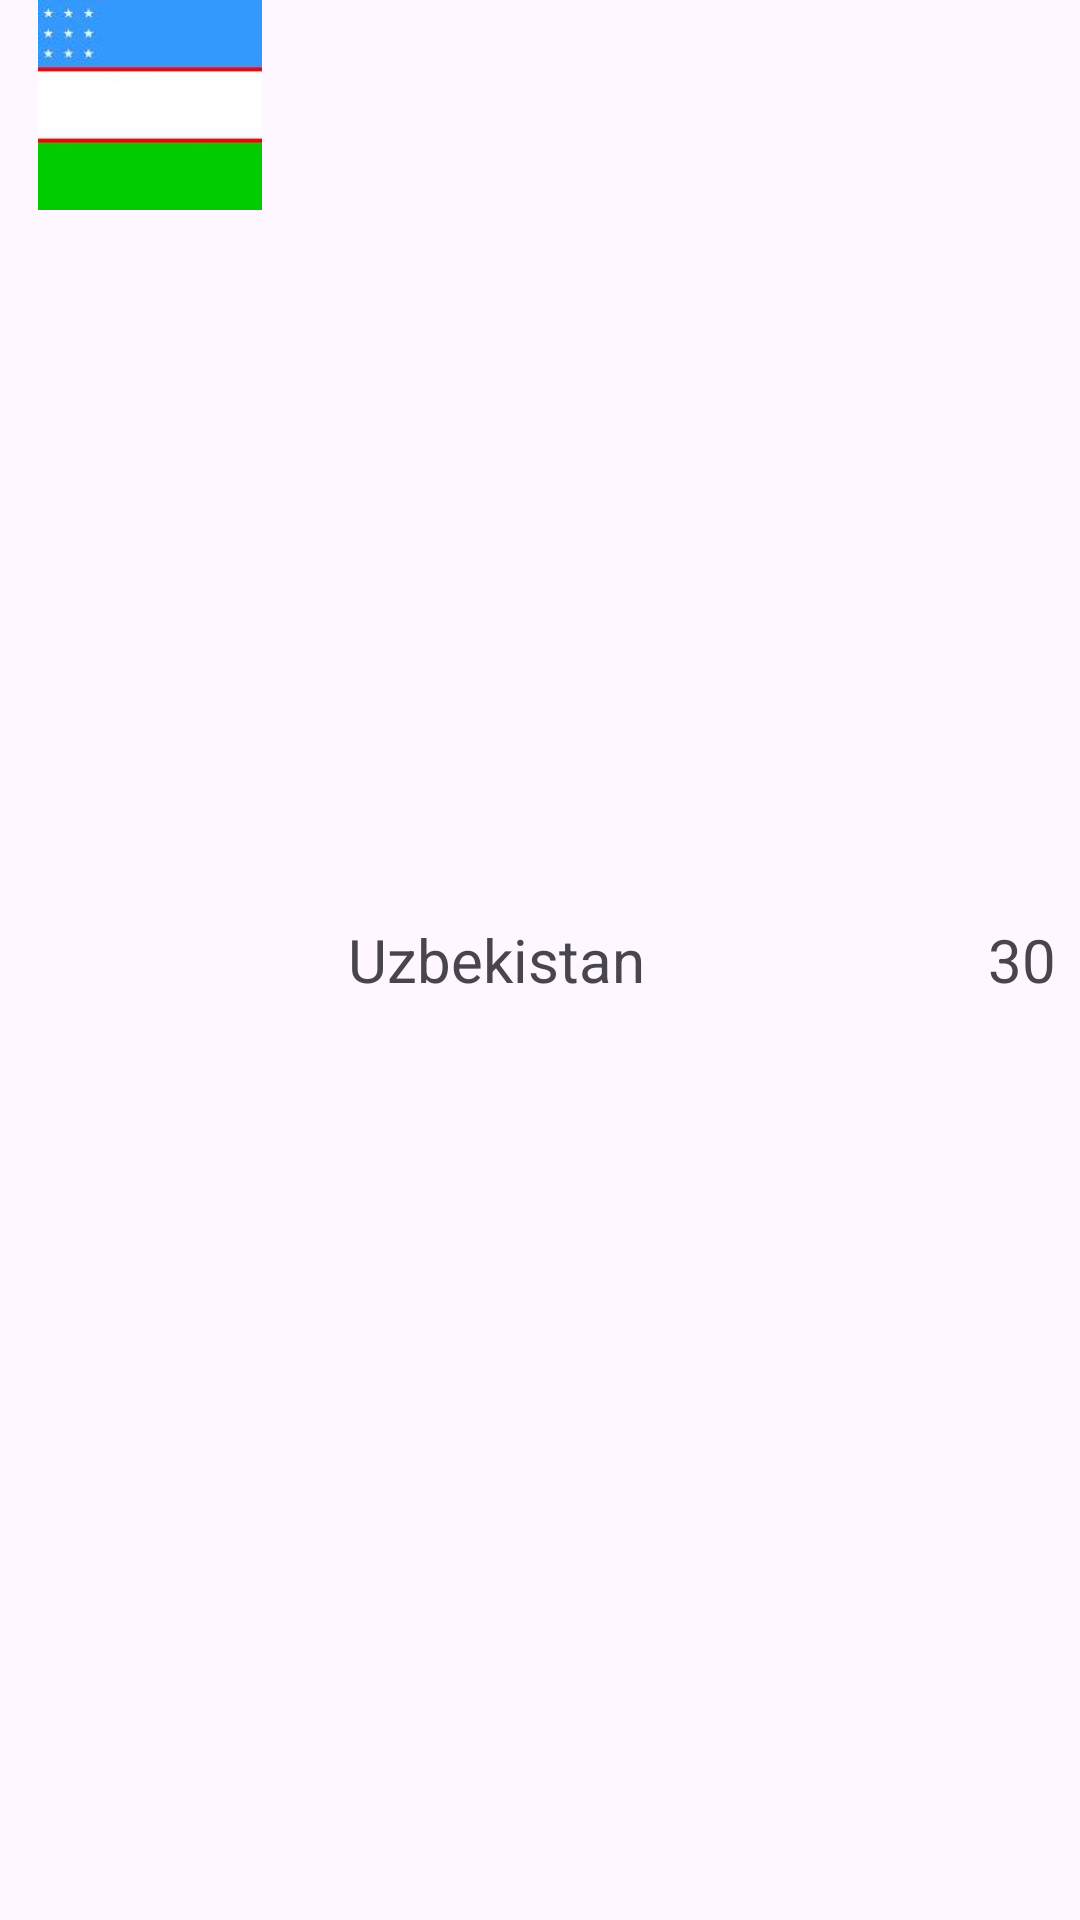

Icon bounding boxes for this 1080w x 1920h phone screenshot, format (x1, y1, x2, y2):
uzb: (38, 0, 262, 210)
